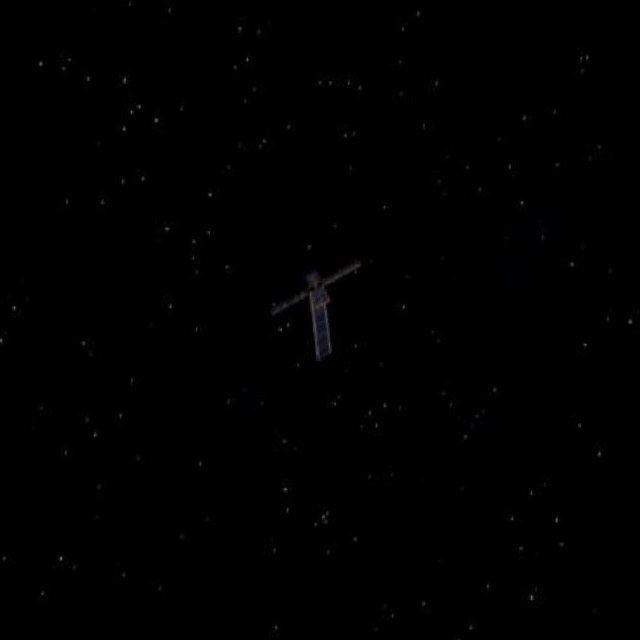medium_debris: (252, 235, 379, 391)
